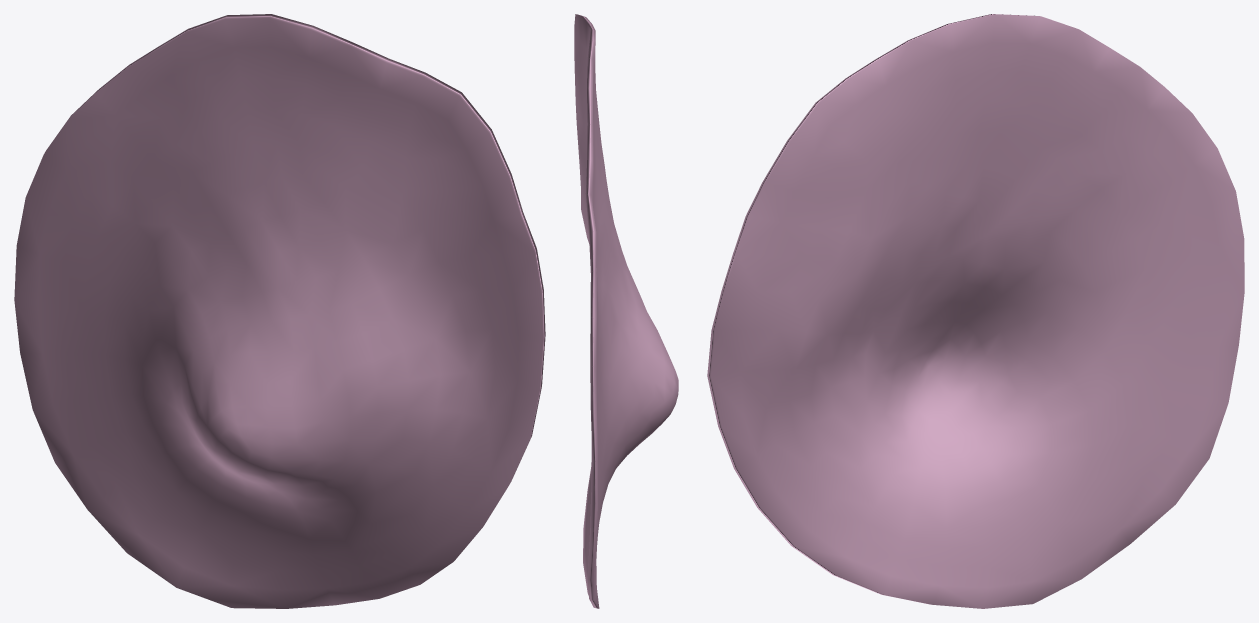
3 views of the same model, side by side, from view 1: azimuth 30°, elevation 25°; view 2: azimuth 150°, elevation 25°; view 3: azimuth 270°, elevation 25° (orthographic). The views are drawn at different scales.
Visible parts, largest first — view 1: 左侧鼓膜; view 2: 左侧鼓膜; view 3: 左侧鼓膜.
Boxes of the visible parts, x1,y1,x2,y2 form: 左侧鼓膜: (14, 14, 545, 608); 左侧鼓膜: (574, 14, 678, 608); 左侧鼓膜: (707, 14, 1244, 608).
Size of the model in its own units: 0.00732 by 0.0155 by 0.0125.
